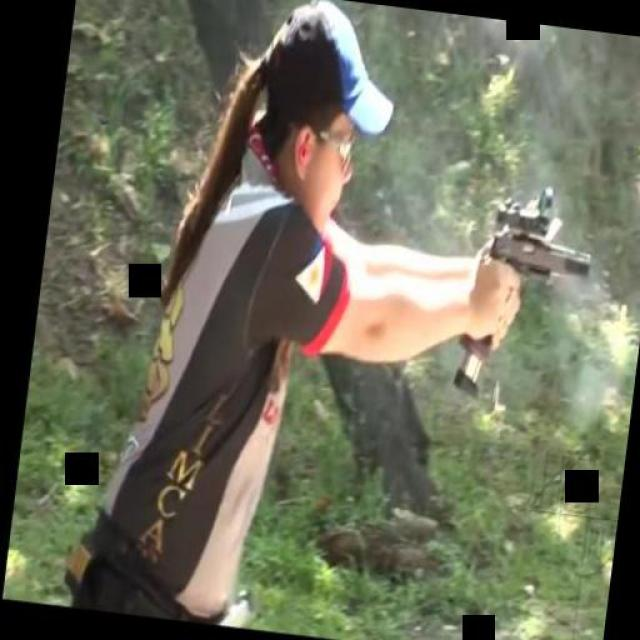gun: (454, 194, 604, 405)
